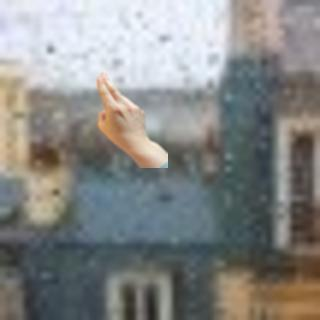DHAVE: (92, 68, 153, 149)
